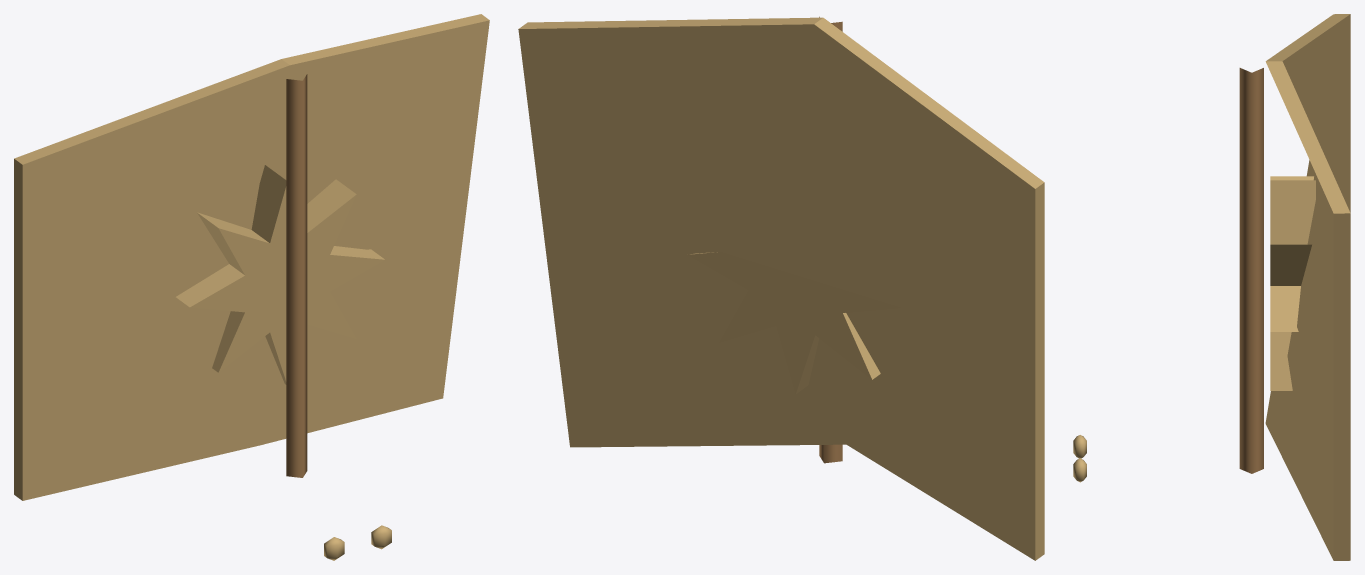
3 renders of one model, left to right at view 1: azimuth 30°, elevation 25°; view 2: azimuth 150°, elevation 25°; view 3: azimuth 270°, elevation 25°, orthographic. The views are drawn at different scales.
Visible parts, largest first — view 1: g_s70; view 2: g_s70; view 3: g_s70.
Boxes of the visible parts, x1,y1,x2,y2 form: g_s70: (14, 14, 489, 560); g_s70: (518, 16, 1044, 560); g_s70: (1073, 14, 1350, 560).
Size of the model in its own units: 0.3441 by 0.2934 by 0.1751.
